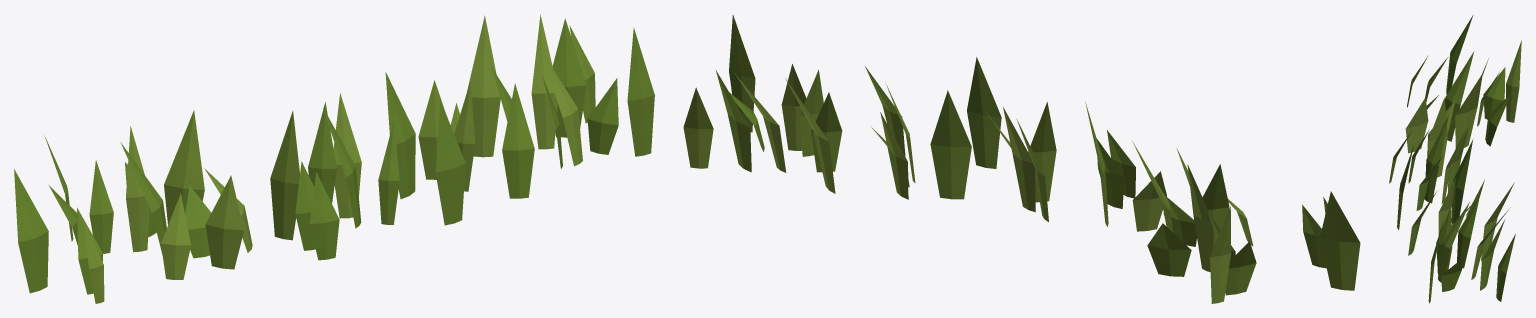
Rendered from tile_grass_edge_03.glb.
3 views of the same model, side by side, from view 1: azimuth 30°, elevation 25°; view 2: azimuth 150°, elevation 25°; view 3: azimuth 270°, elevation 25° (orthographic). The views are drawn at different scales.
Parts seen in each view (by area): view 1: tile_grass_edge_03; view 2: tile_grass_edge_03; view 3: tile_grass_edge_03.
Part boxes in pixels (x1,y1,x2,y2): tile_grass_edge_03: (14, 14, 654, 303); tile_grass_edge_03: (683, 15, 1360, 303); tile_grass_edge_03: (1389, 15, 1521, 303).
Bounding box in the file's own units: 0.9695 × 0.1784 × 0.2494.
1 material, 1 textured.
